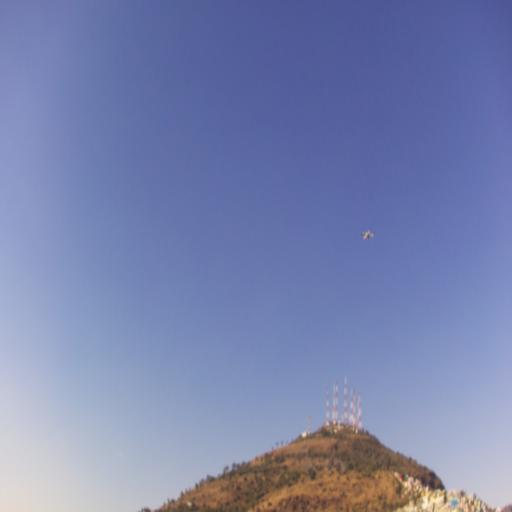drones: (360, 226, 375, 244)
